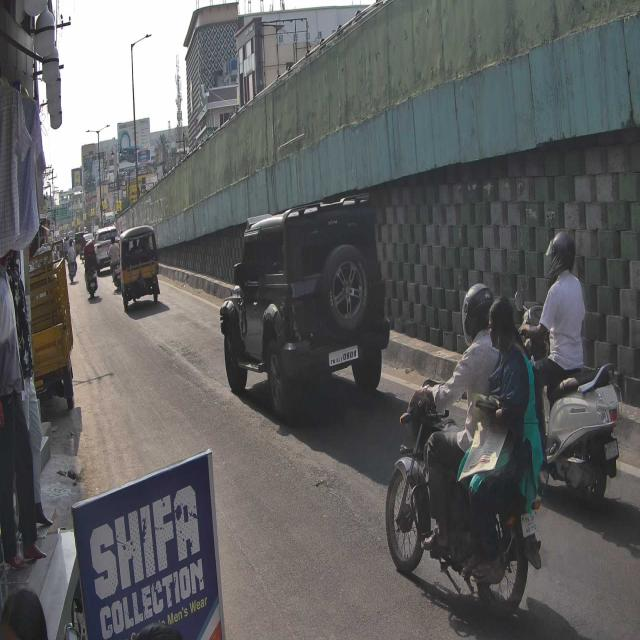double_rider: (386, 280, 543, 622)
